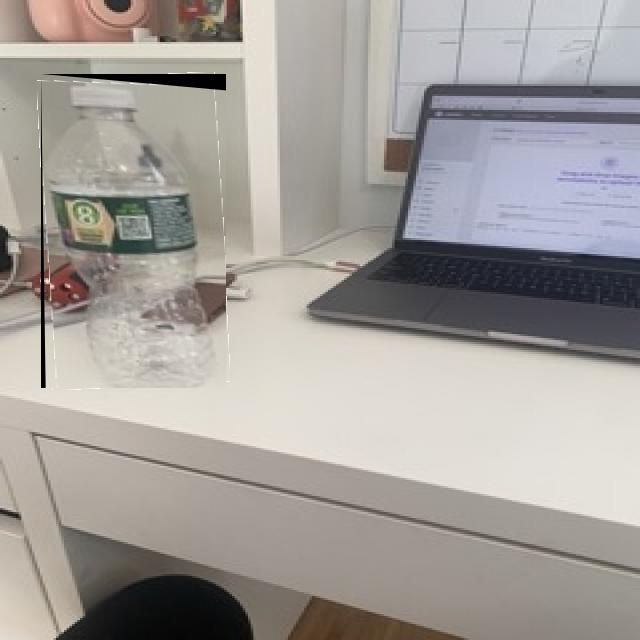water_bottle: (41, 74, 226, 388)
